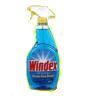grozi_26: (24, 4, 59, 91)
